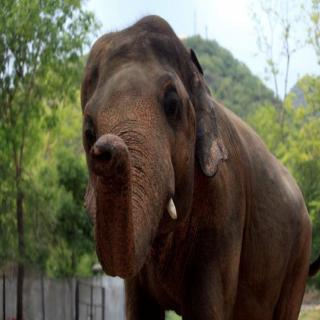Elephant: (59, 11, 320, 320)
